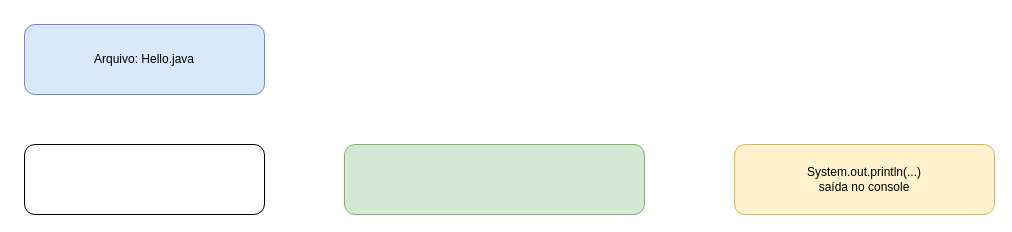
Some shapes in this 1012 by 232 pixel diagram are drawn without their labels. The box of each missing label's shape, as (x1, y1, x2, y2) in pixels:
public class Hello: (24, 144, 264, 214)
public static void main(String[] args): (344, 144, 644, 214)
